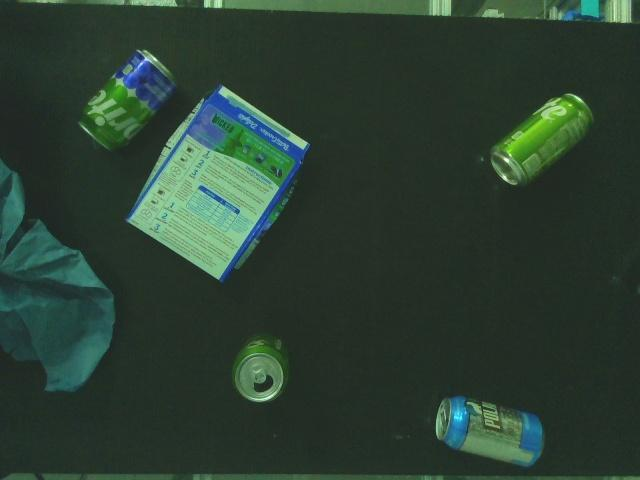cardboard: (122, 85, 313, 283)
metal: (488, 88, 600, 192), (74, 45, 180, 152), (432, 391, 546, 471), (229, 332, 291, 406)
paper: (0, 156, 116, 398)
